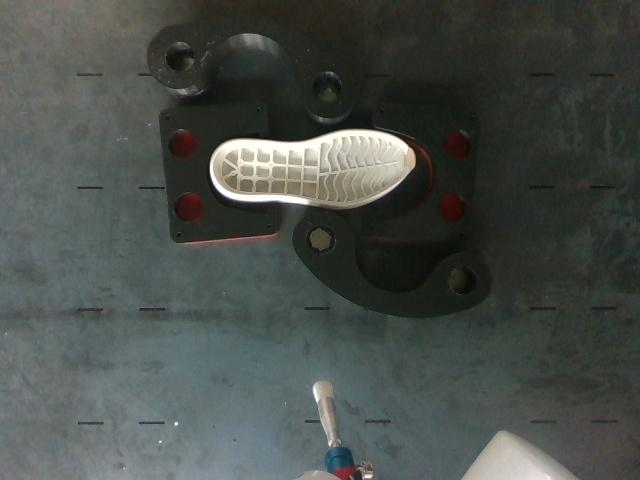shoes: (212, 131, 414, 207)
